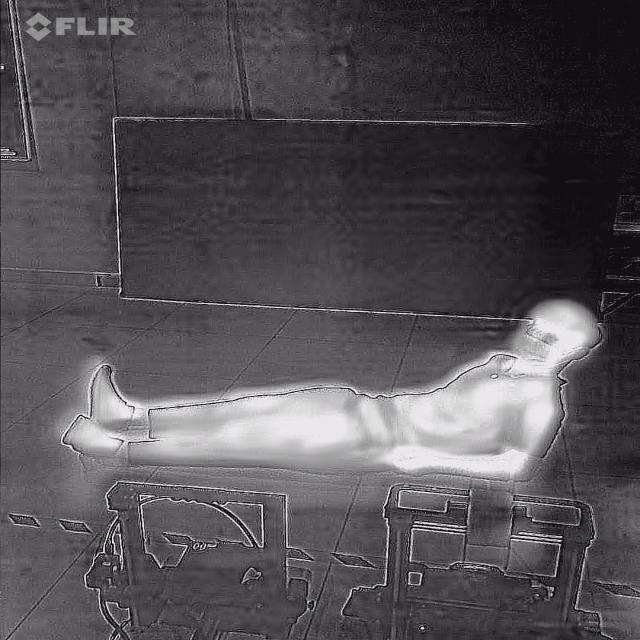Victim: (49, 297, 618, 487)
